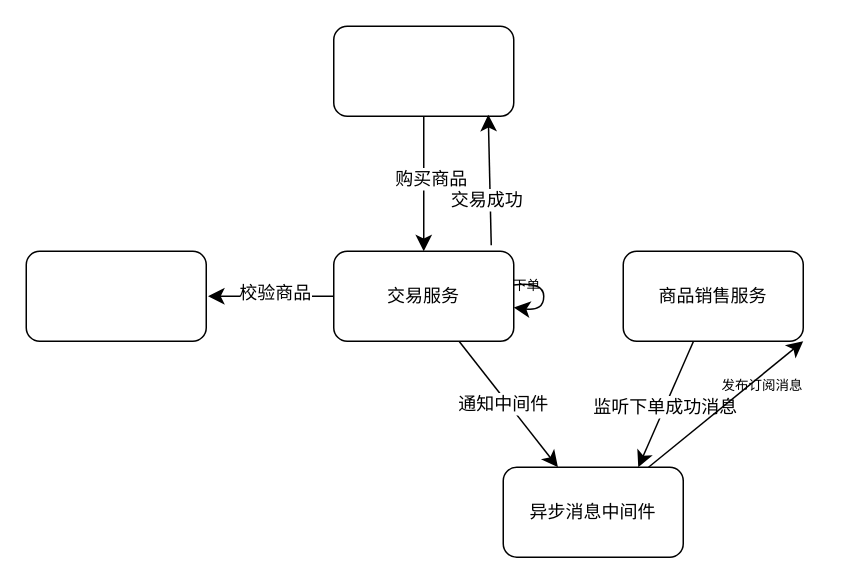
The diagram is 854 pixels wide and 584 high, and some of its shapes have lost their labels. Each missing label, with the centre of its shape:
"API网关层" belongs at (423,70).
"商品服务" belongs at (115,295).
